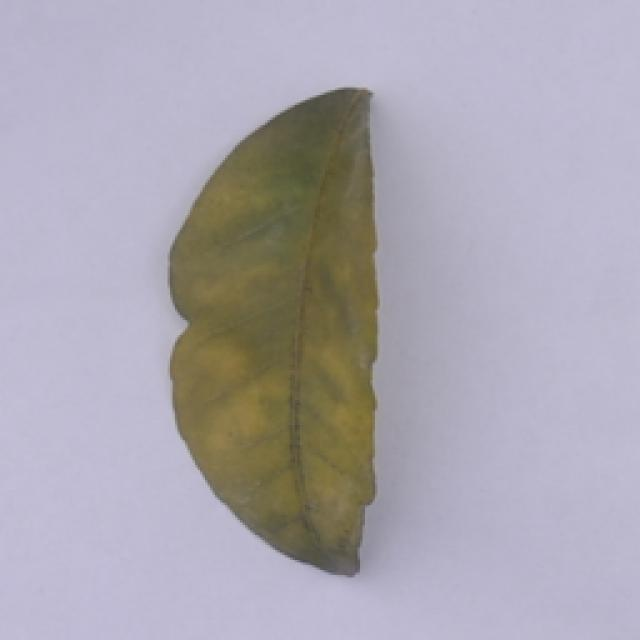greening: (147, 81, 430, 581)
